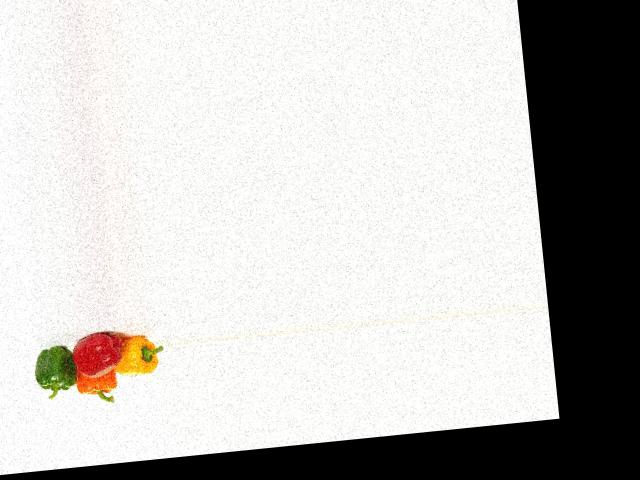bell_pepper: (31, 337, 81, 397)
